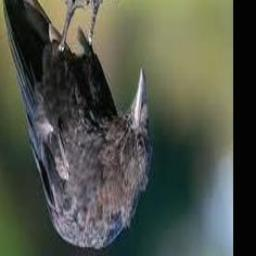Crow: (2, 0, 151, 250)
